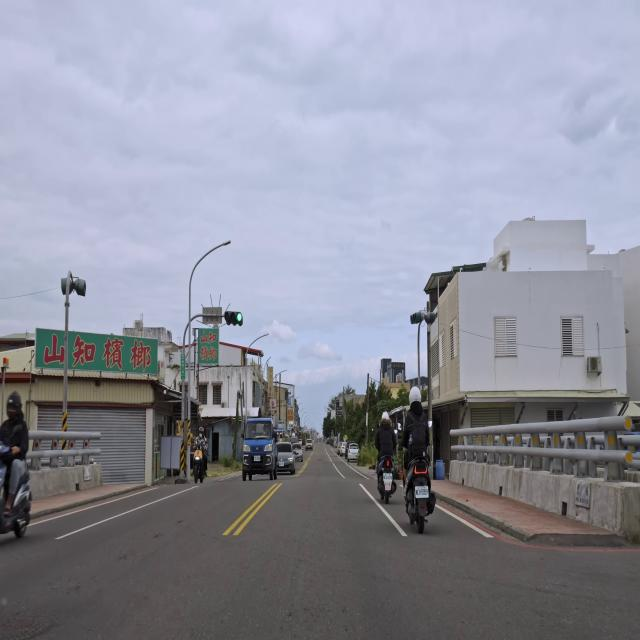green light: (224, 310, 244, 326)
